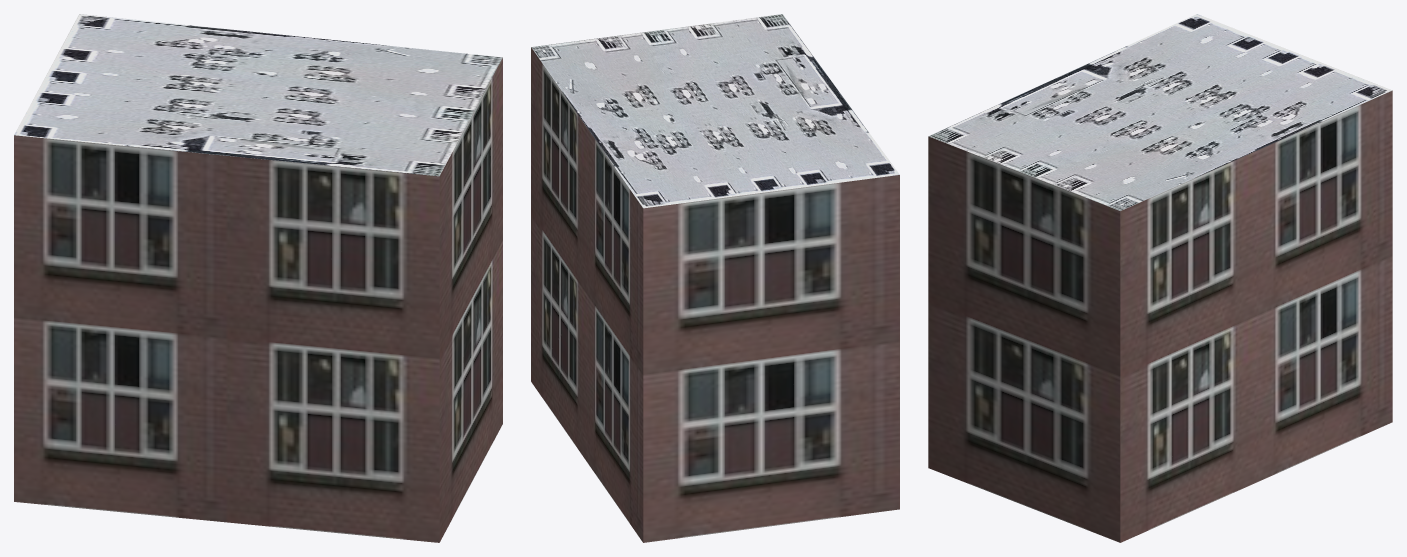
File: ResTex__3423.fbx
3 views of the same model, side by side, from view 1: azimuth 30°, elevation 25°; view 2: azimuth 150°, elevation 25°; view 3: azimuth 270°, elevation 25° (orthographic). The views are drawn at different scales.
Parts seen in each view (by area): view 1: CityEngineMaterial_12_m, CityEngineMaterial_2_m; view 2: CityEngineMaterial_12_m, CityEngineMaterial_2_m; view 3: CityEngineMaterial_12_m, CityEngineMaterial_2_m.
Boxes of the visible parts, <box> form: CityEngineMaterial_12_m: <box>14,58,502,542</box>; CityEngineMaterial_2_m: <box>14,14,502,176</box>; CityEngineMaterial_12_m: <box>531,47,899,542</box>; CityEngineMaterial_2_m: <box>531,14,899,208</box>; CityEngineMaterial_12_m: <box>928,90,1392,542</box>; CityEngineMaterial_2_m: <box>928,14,1392,210</box>.
Size of the model in its own units: 7.65 by 6 by 7.61.
Materials: 2 (2 with a texture image).
